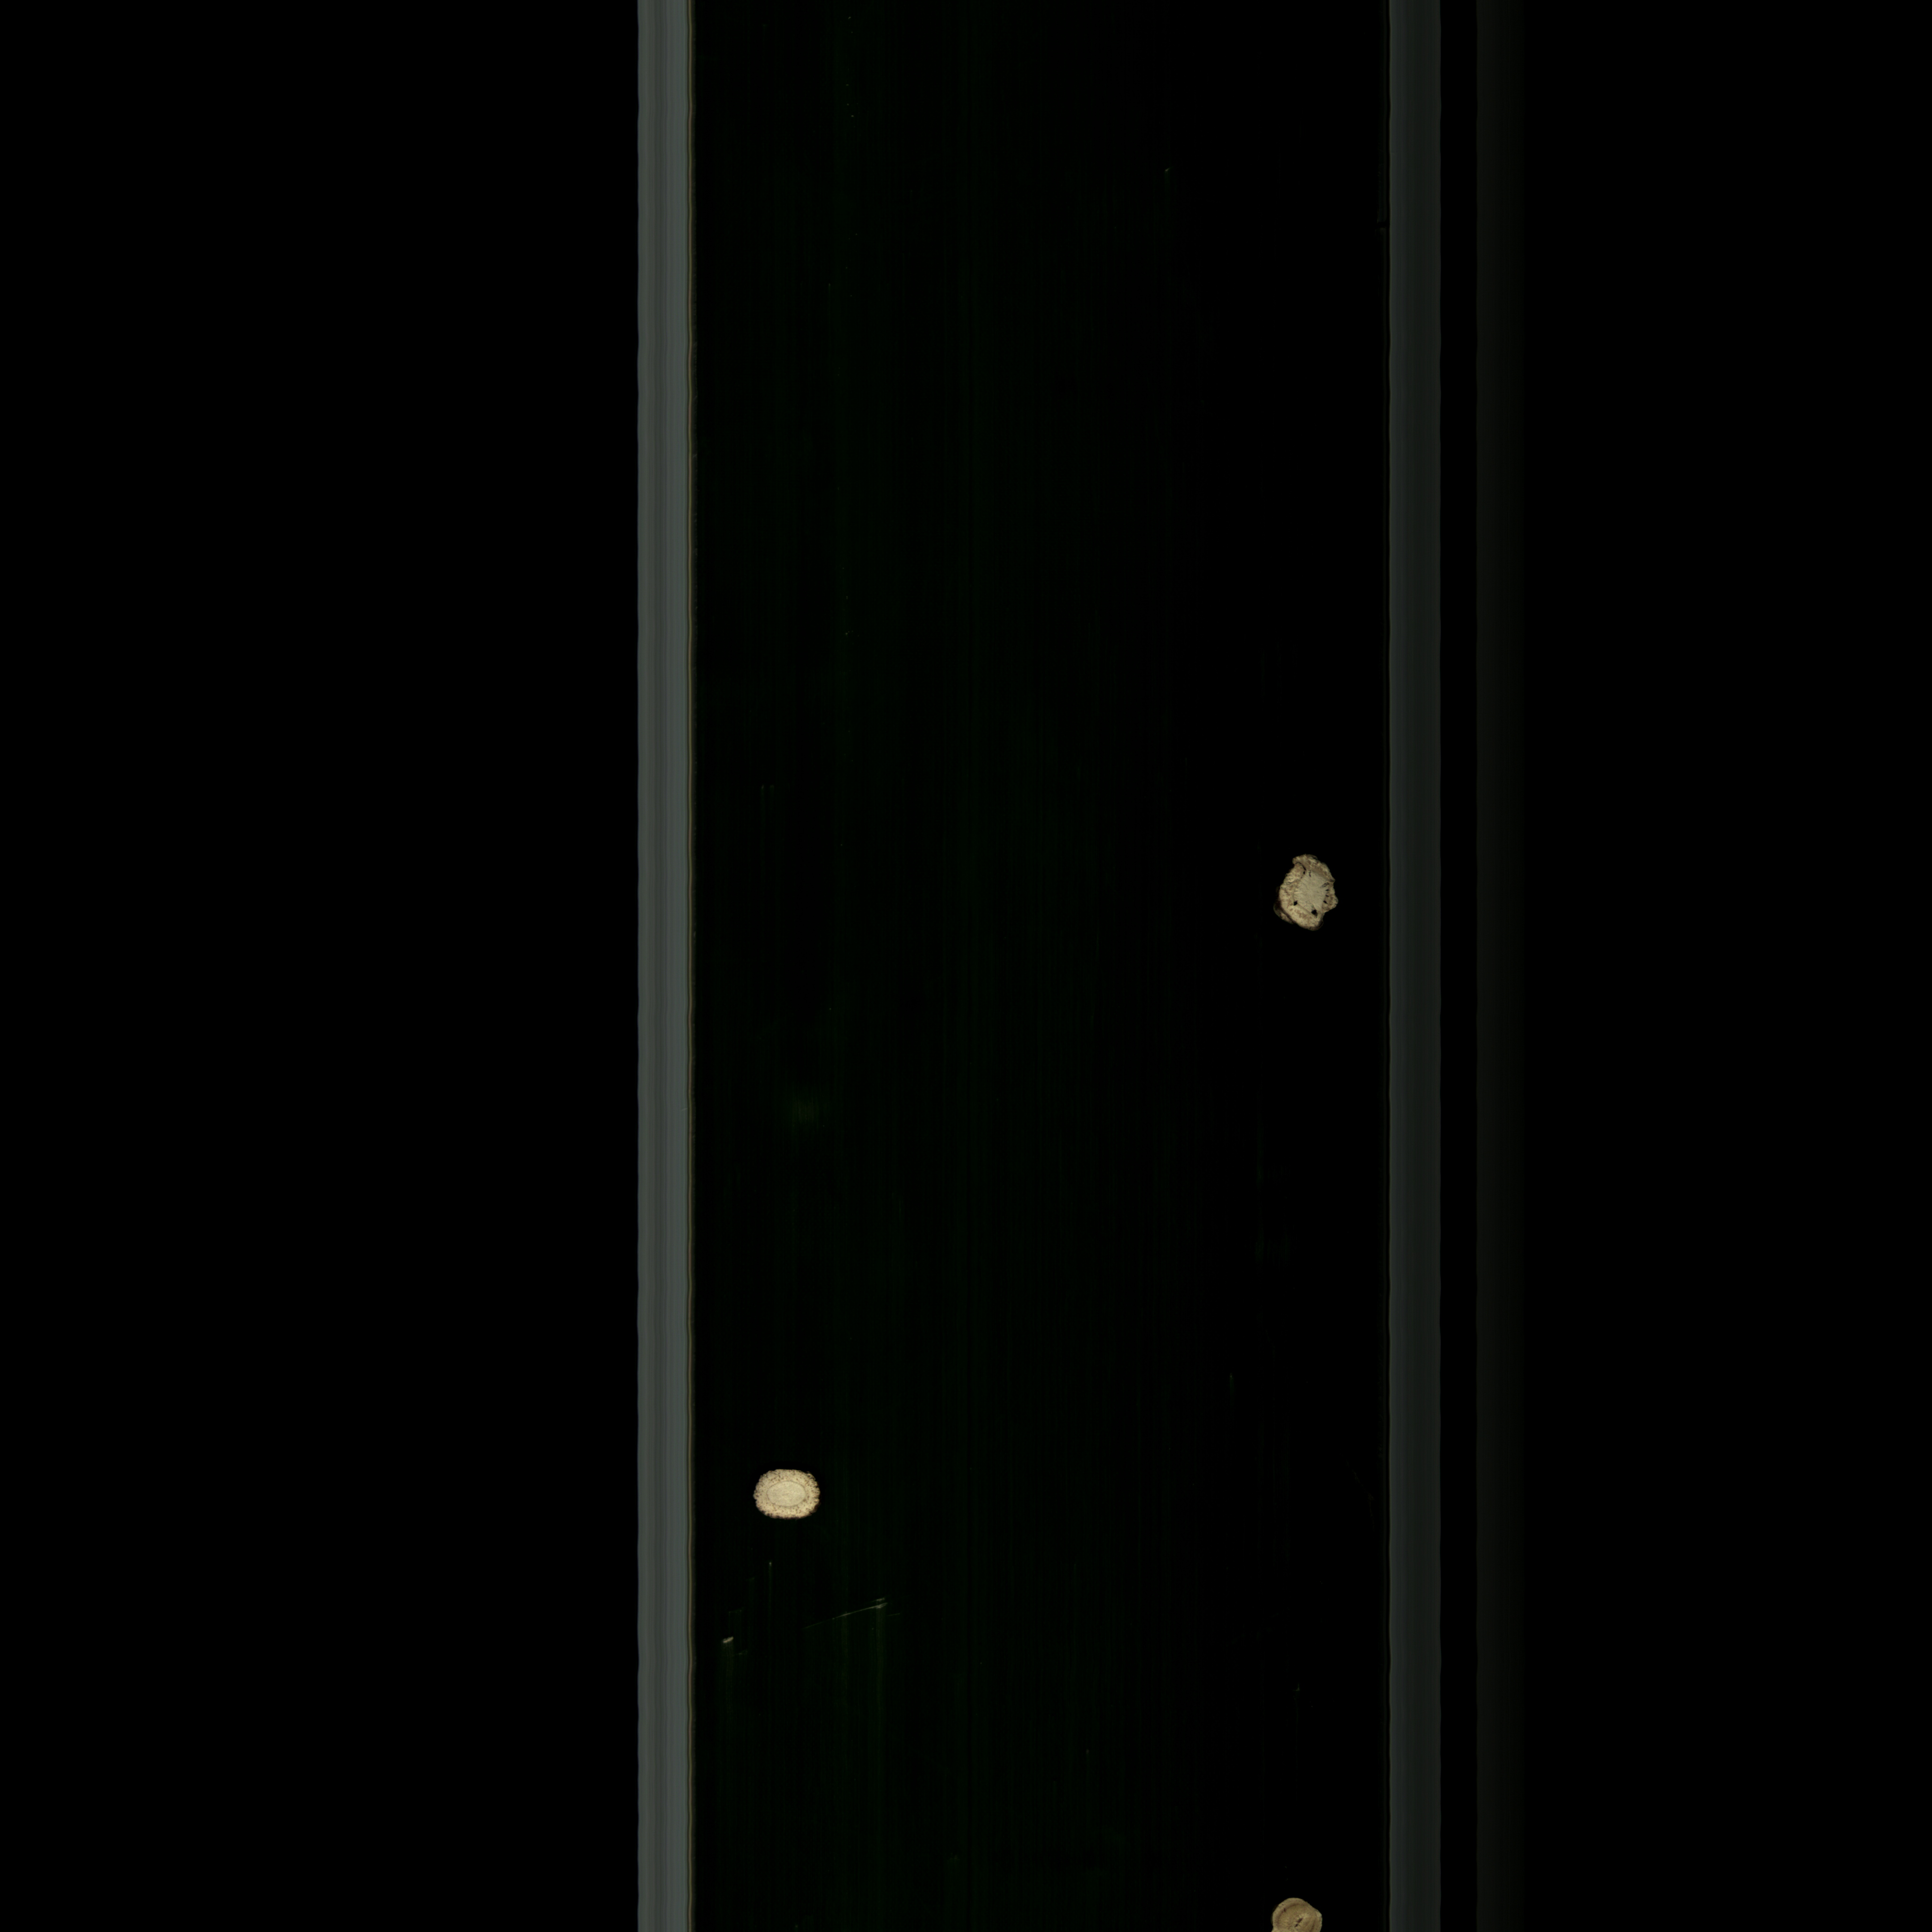moldy: (1267, 842, 1341, 941), (1249, 1890, 1339, 1932)
